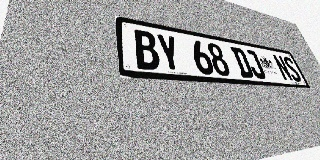6: (189, 39, 216, 75)
8: (206, 42, 232, 76)
B: (132, 29, 161, 71)
D: (230, 47, 255, 78)
J: (243, 49, 267, 79)
N: (272, 54, 294, 81)
S: (281, 56, 303, 82)
Y: (155, 33, 183, 73)
